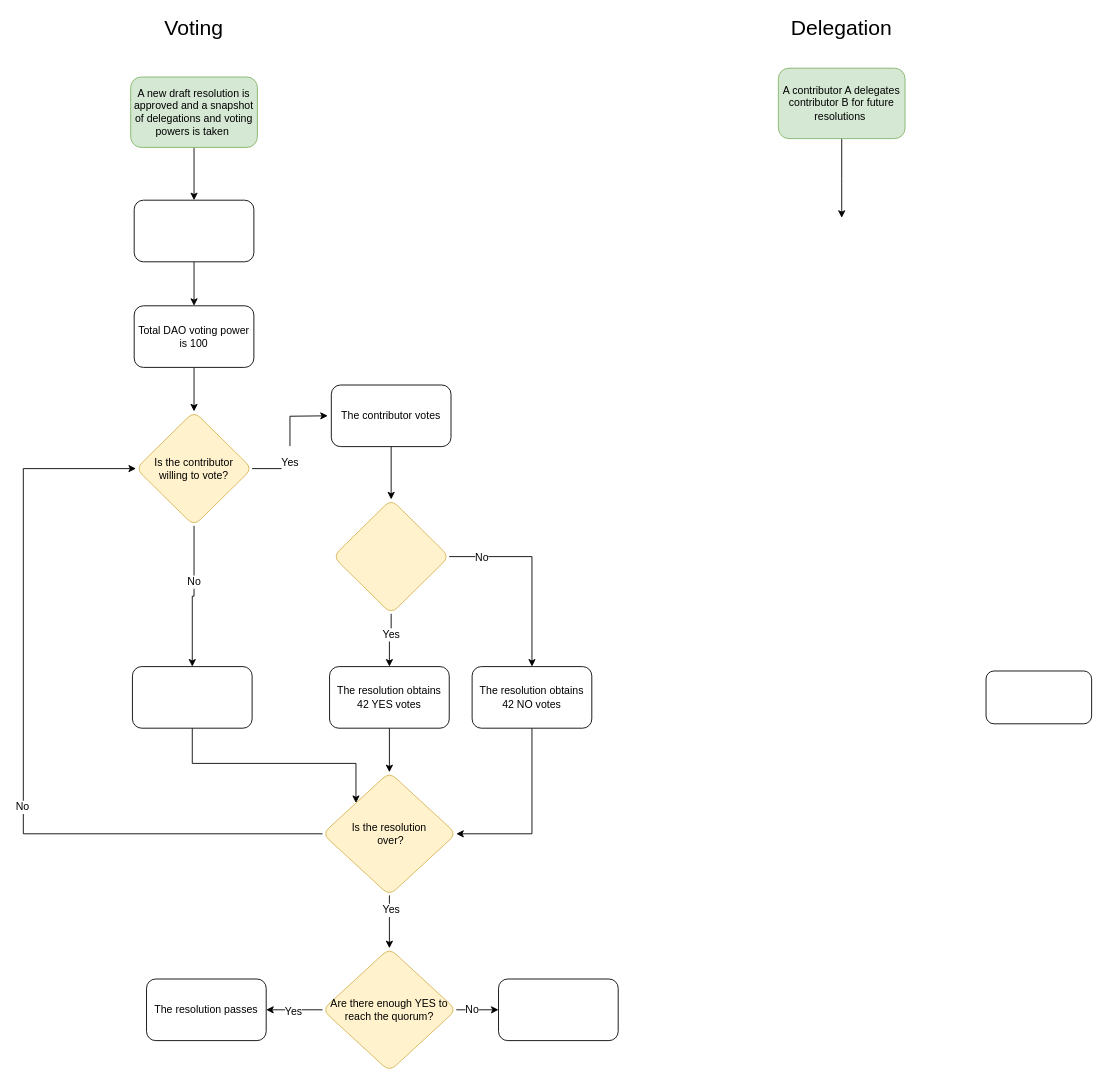
The diagram is 1107 pixels wide and 1087 high, and some of its shapes have lost their labels. The box of each missing label's shape, as (x1, y1, x2, y2) in pixels:
A contributor with 42 was a contributor at the time of the snapshot: (133, 199, 254, 262)
B voting power - A voting power is added to the resolution vote decided by B: (985, 670, 1092, 724)
Contributor's voting power counts as NO vote if no previous votes were given: (132, 666, 252, 728)
Is the vote YES?: (332, 499, 449, 614)
The resolution does not pass: (498, 978, 618, 1041)
